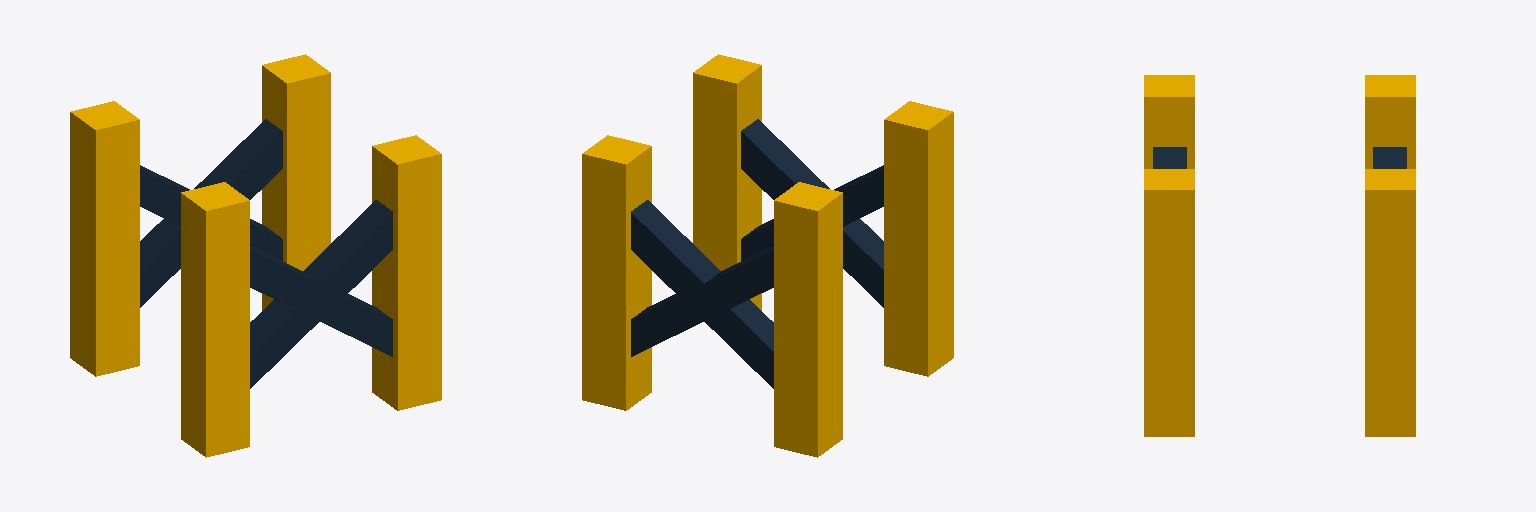
3 renders of one model, left to right at view 1: azimuth 30°, elevation 25°; view 2: azimuth 150°, elevation 25°; view 3: azimuth 270°, elevation 25°, orthographic.
Parts seen in each view (by area): view 1: cube; view 2: cube; view 3: cube.
Part boxes in pixels (x1,y1,x2,y2): cube: (70, 54, 441, 457); cube: (582, 54, 953, 457); cube: (1144, 75, 1415, 436).
Bounding box in the file's own units: 1 × 1 × 1.
Materials: 2 (2 with a texture image).